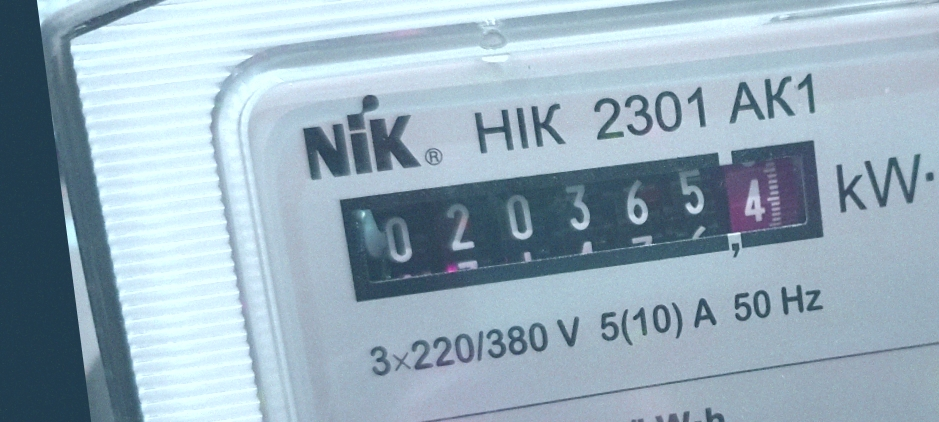0: (378, 209, 418, 267), (502, 190, 537, 243)
2: (441, 198, 477, 252)
3: (560, 181, 595, 233)
4: (737, 173, 766, 224)
5: (676, 166, 709, 216)
6: (619, 174, 651, 227)
screen: (323, 118, 844, 319)
